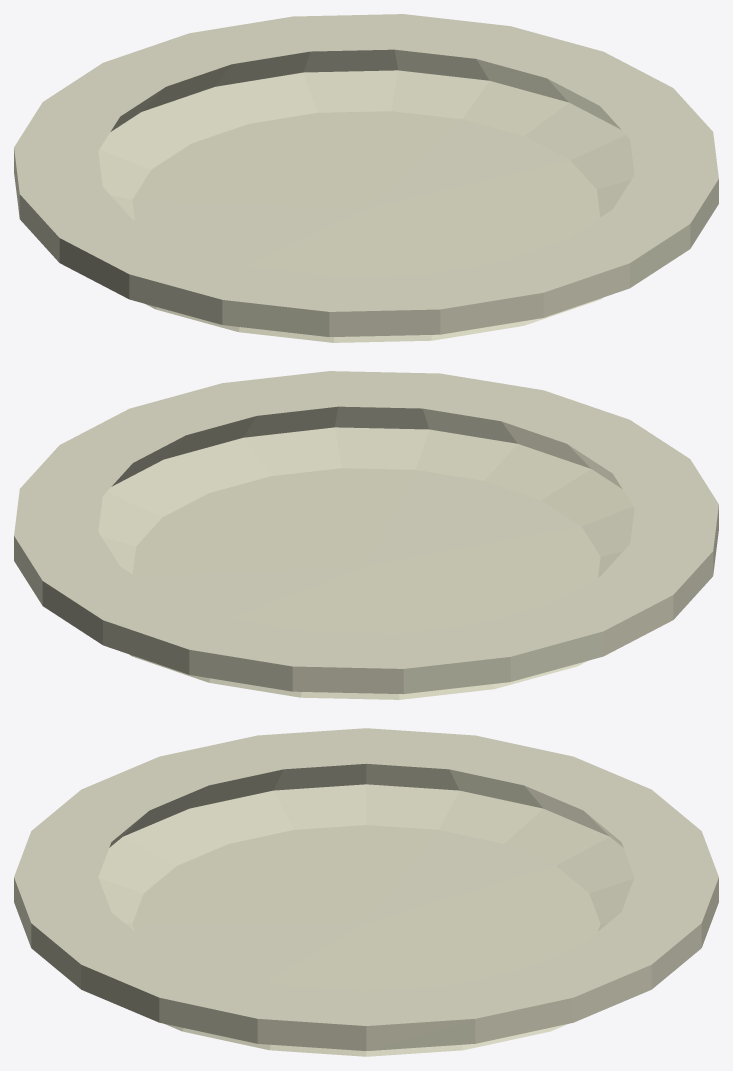
Rendered from plate.fbx.
The picture shows the model from 3 angles, top to bottom: view 1: azimuth 30°, elevation 25°; view 2: azimuth 150°, elevation 25°; view 3: azimuth 270°, elevation 25°; orthographic projection.
Parts seen in each view (by area): view 1: dish; view 2: dish; view 3: dish.
Part boxes in pixels (left/top/right/bottom): dish: left=14, top=14, right=718, bottom=342; dish: left=14, top=371, right=718, bottom=699; dish: left=14, top=728, right=718, bottom=1056.
Size of the model in its own units: 2.89 by 0.3643 by 2.89.
